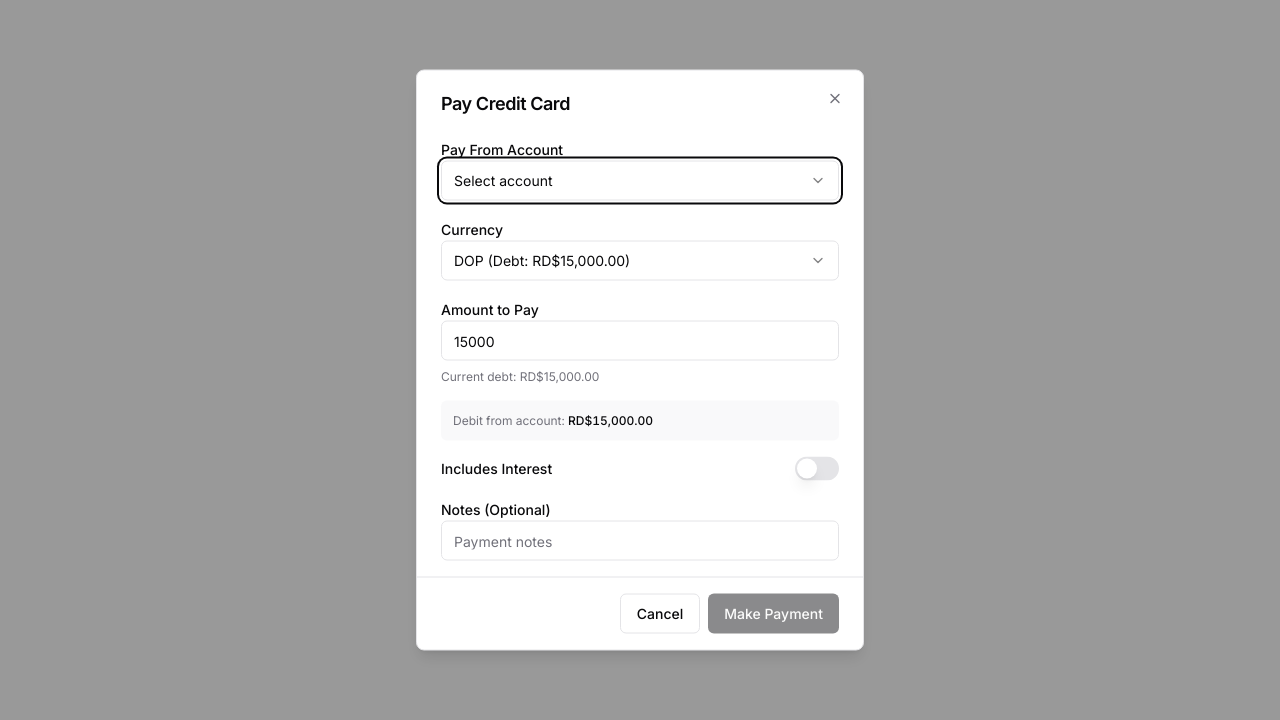
PaymentModal › shows the available balance of the selected source account
Click the dropdown labelled "Select account" at (503, 180), box left=441, top=160, right=839, bottom=200
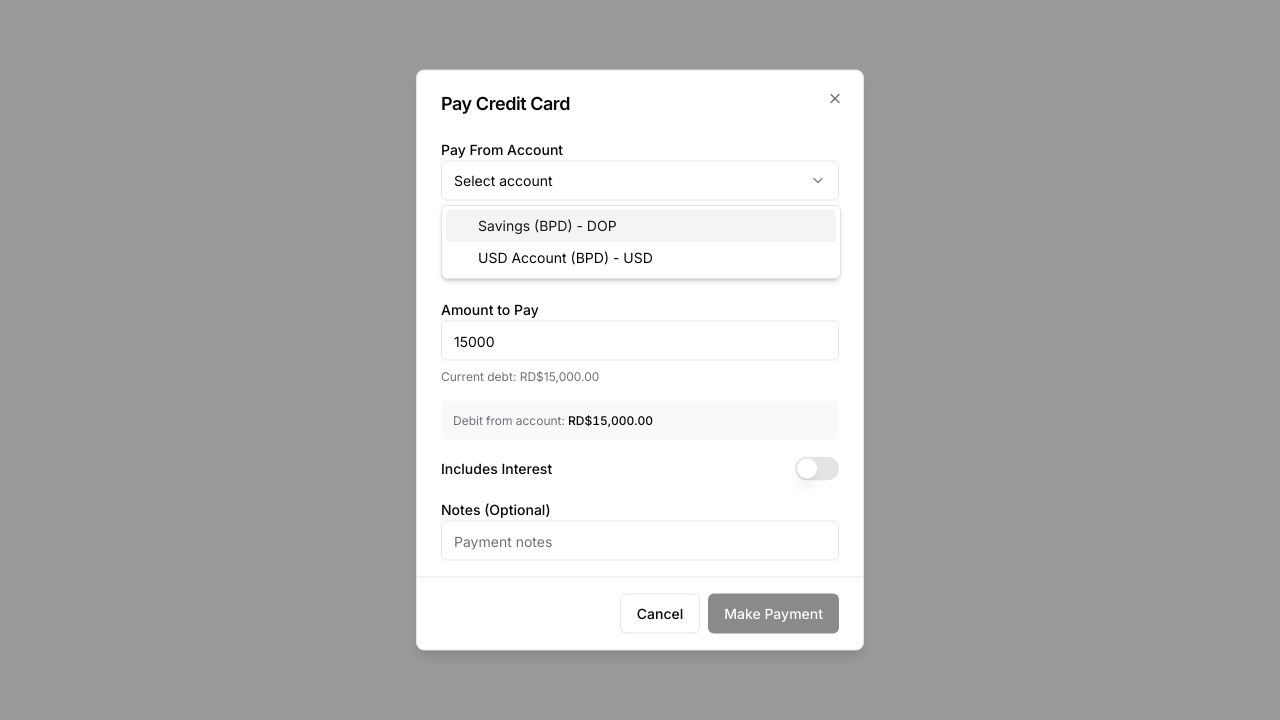
Click the option "Savings (BPD) - DOP" at (504, 226), box left=446, top=210, right=836, bottom=242
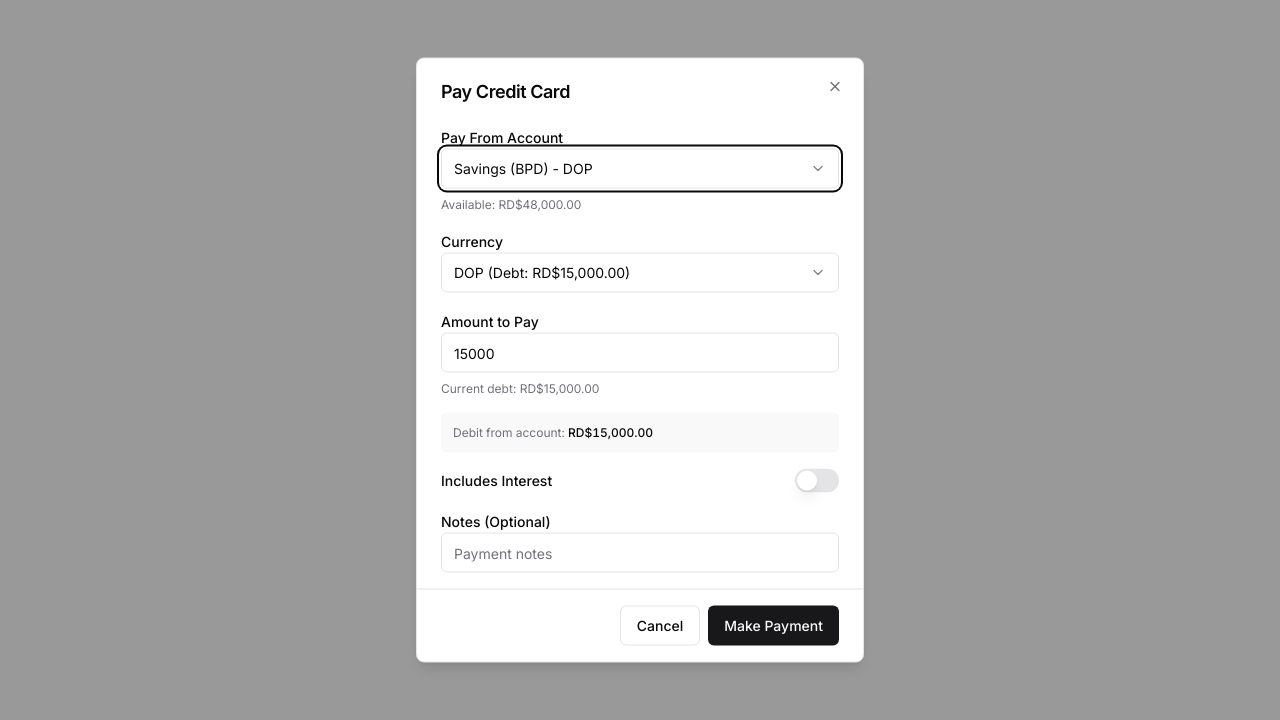
Expected: the text "Available: RD$48,000.00" is shown, left=441, top=196, right=581, bottom=212
